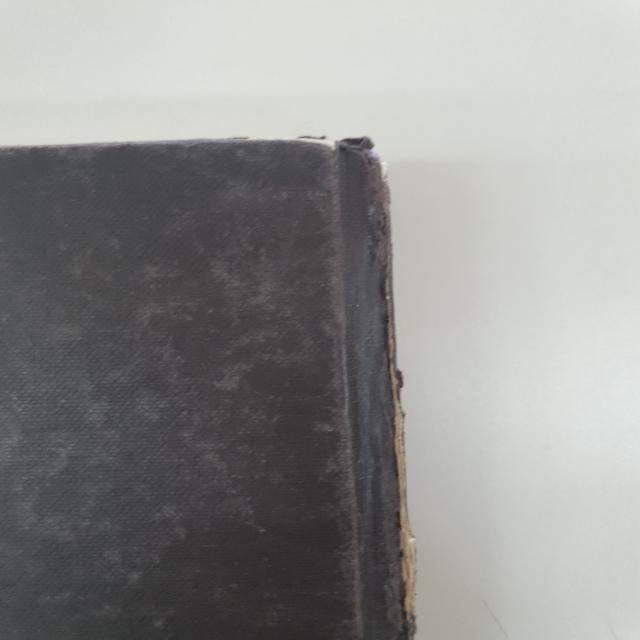Ripped: (340, 132, 428, 639), (224, 129, 339, 168)
Wornout: (0, 134, 223, 160)
